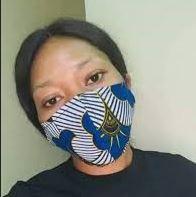with_facemask: (41, 105, 145, 163)
